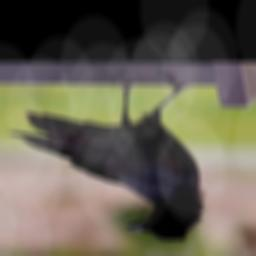Crow: (8, 73, 207, 242)
